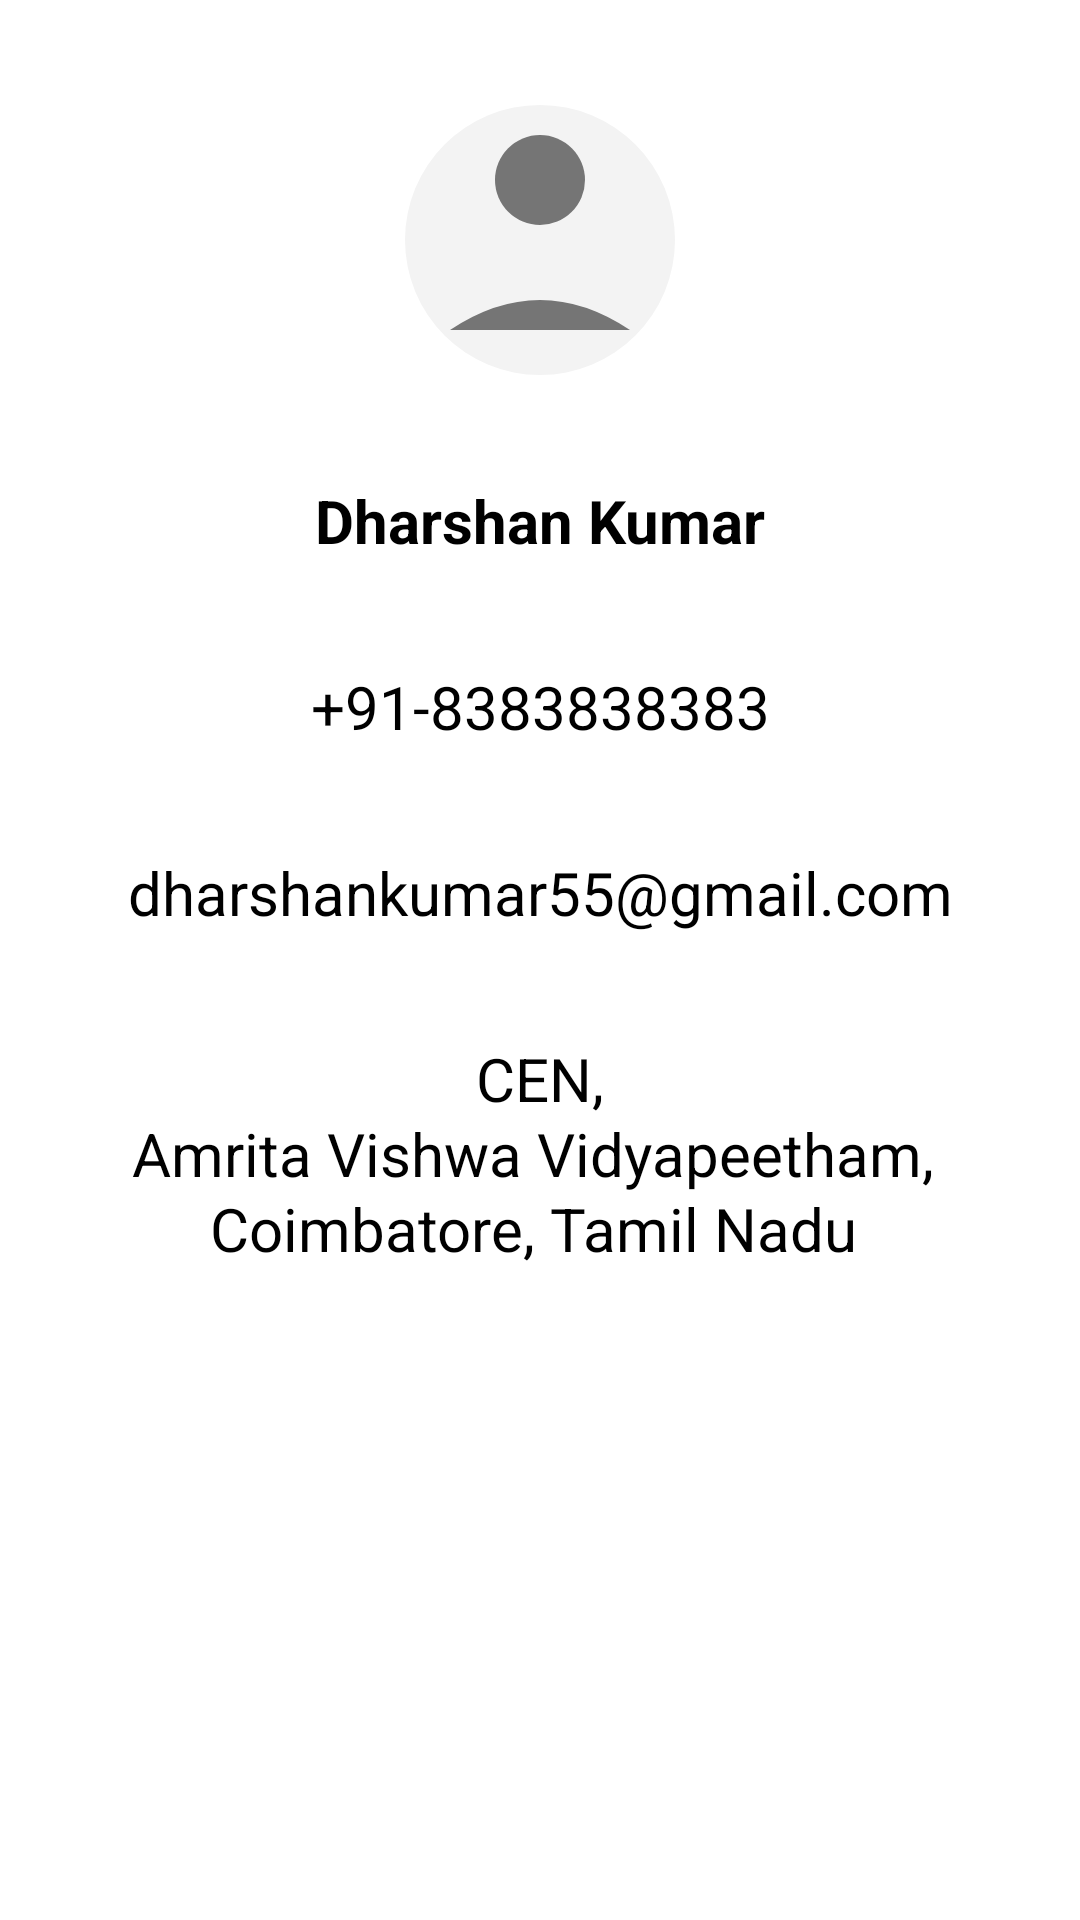

Where icons sit on this 1080 × 1920 app screen, as bbox=[x1, y1, x2, y2]:
profile pic: bbox=[405, 105, 675, 375]
